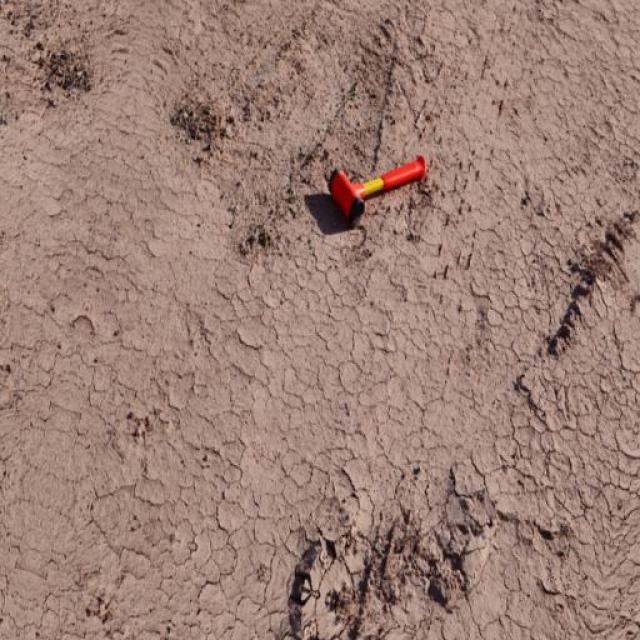mallet: (327, 152, 428, 226)
